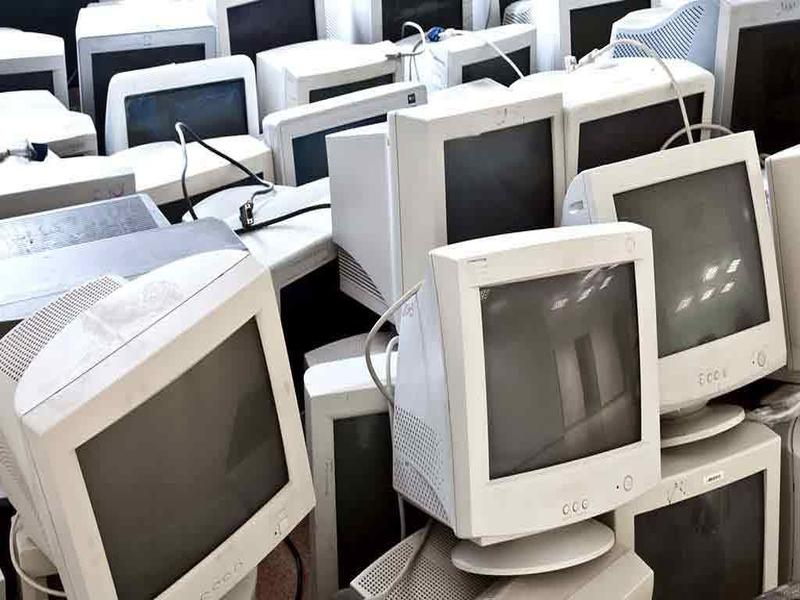tv_pc: (1, 246, 321, 600), (387, 220, 665, 578), (554, 125, 793, 454), (309, 86, 581, 325), (612, 427, 800, 600)
